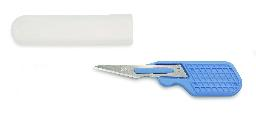scalpel: (93, 60, 243, 97)
